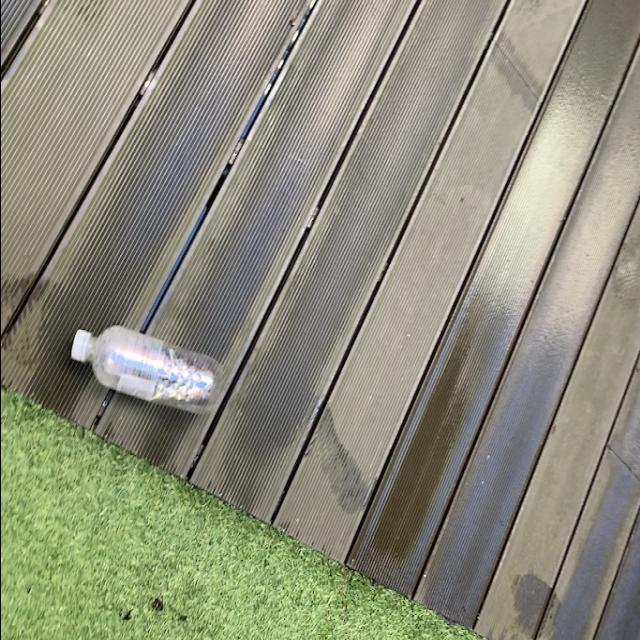PET: (68, 326, 224, 416)
